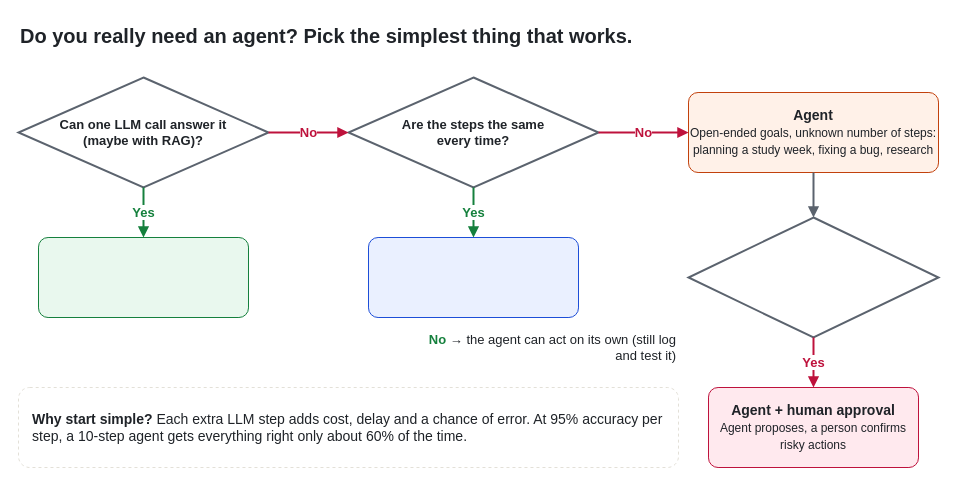
This 956x485 diagram has some shape labels left out. The shapes that lost their labels are listed below. From the top down, each one's centre as x and y in pixels, then its label:
At (143,277): "Chatbot / RAG bot FAQ answers, summaries, explanations".
At (473,277): "Workflow Daily complaint summary, routing, form processing".
At (813,277): "Is a mistake costly? (money, marks, emails to everyone)".
